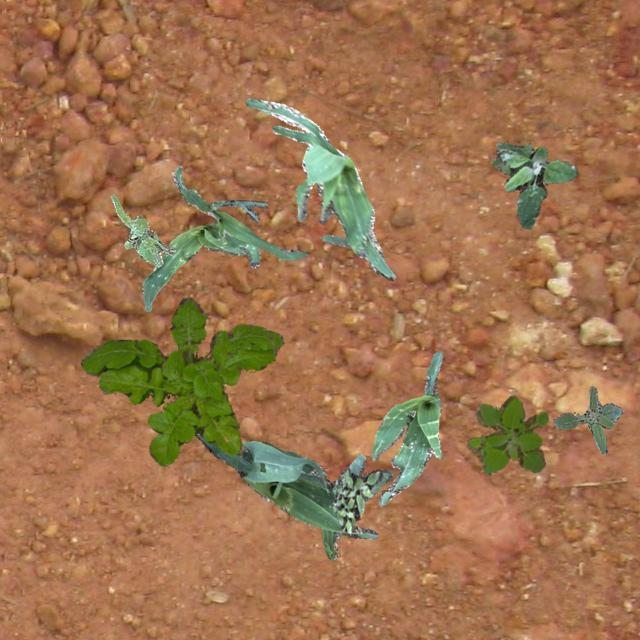crop: (244, 98, 394, 280), (194, 429, 392, 558), (172, 164, 306, 260), (369, 350, 442, 504), (142, 222, 258, 310)
weed: (80, 296, 282, 466), (492, 142, 576, 228), (466, 394, 548, 474), (110, 193, 174, 266), (552, 386, 622, 452), (332, 468, 382, 532)
